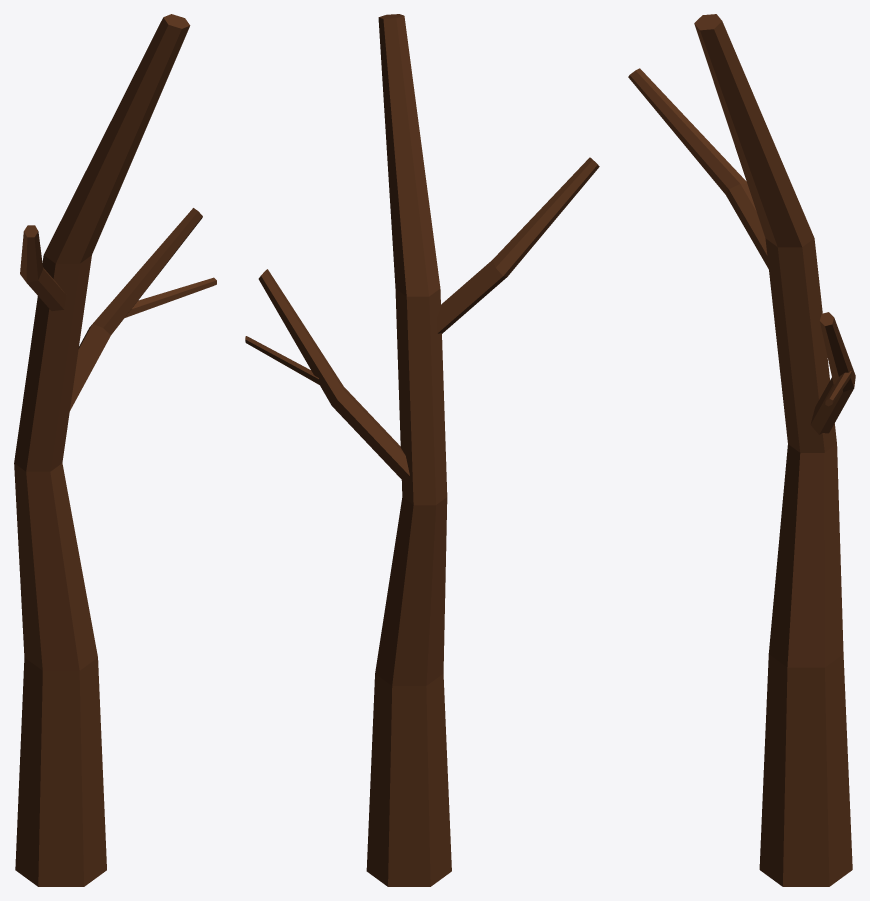
Rendered from tree_dead.fbx.
3 renders of one model, left to right at view 1: azimuth 30°, elevation 25°; view 2: azimuth 150°, elevation 25°; view 3: azimuth 270°, elevation 25°, orthographic. The views are drawn at different scales.
Parts seen in each view (by area): view 1: Cylinder; view 2: Cylinder; view 3: Cylinder.
Part boxes in pixels (box(x1,y1,x2,y2)): Cylinder: box(14, 14, 216, 886); Cylinder: box(245, 14, 599, 886); Cylinder: box(628, 14, 855, 886).
Size of the model in its own units: 133 by 387 by 90.24.
